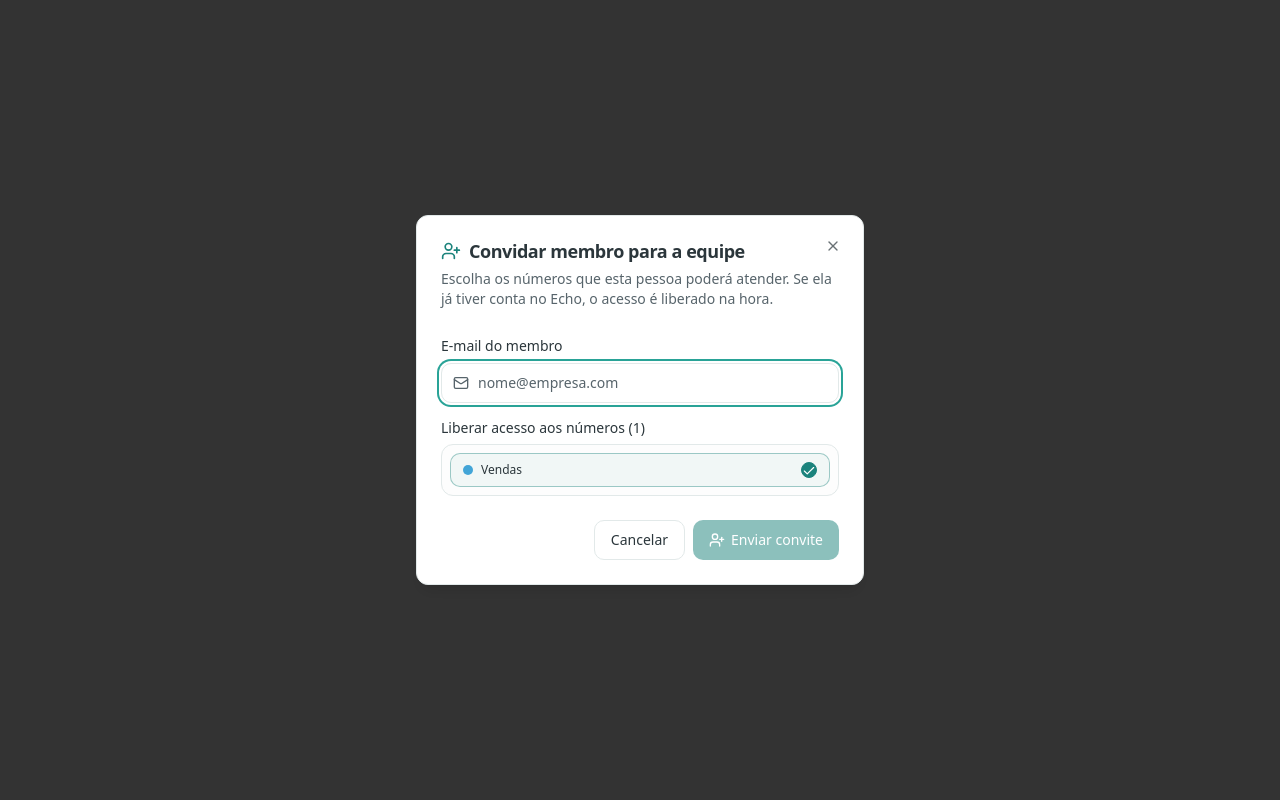
InviteMemberDialog: link do convite › 'Copiar' grava o link na área de transferência no clique e confirma
Type "agente@example.com" into the field labelled "E-mail do membro" at (640, 382), box x1=441 y1=362 x2=839 y2=402
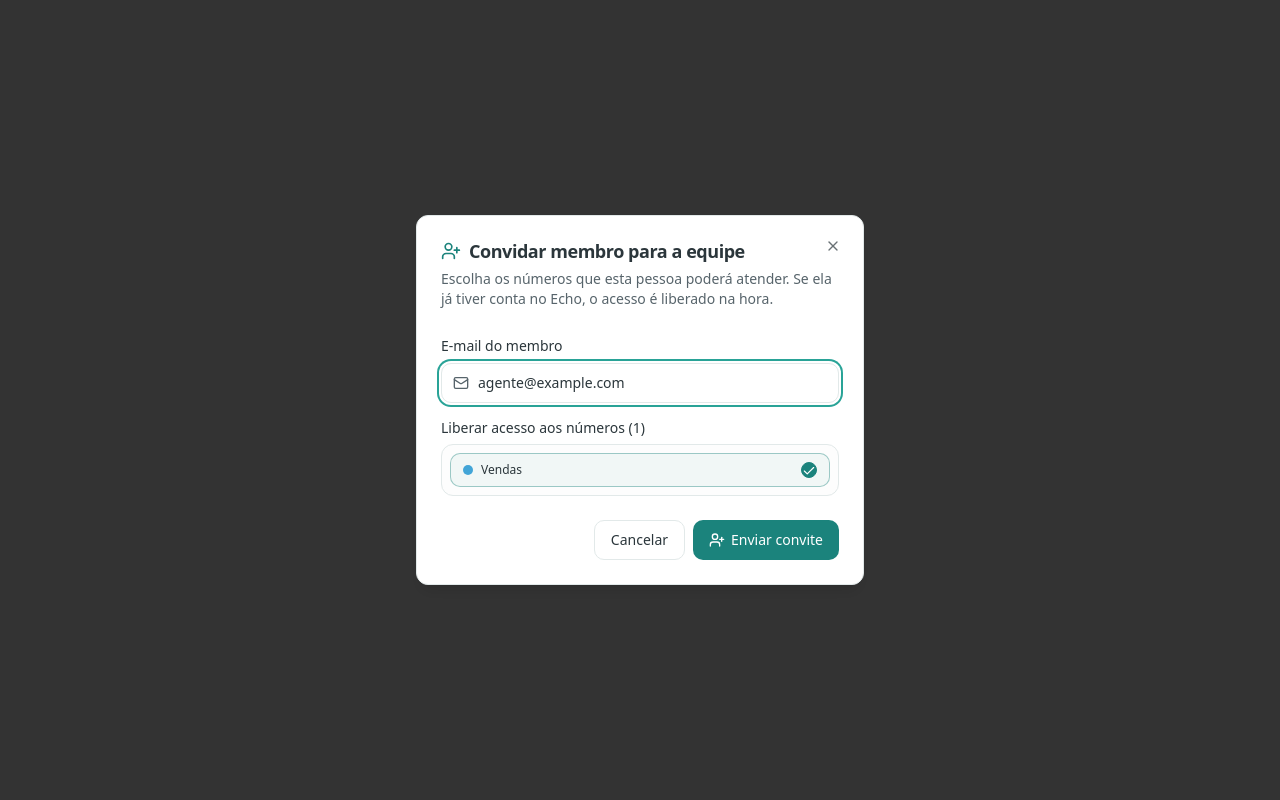
Click the button "Enviar convite" at (766, 540), box x1=693 y1=520 x2=839 y2=560
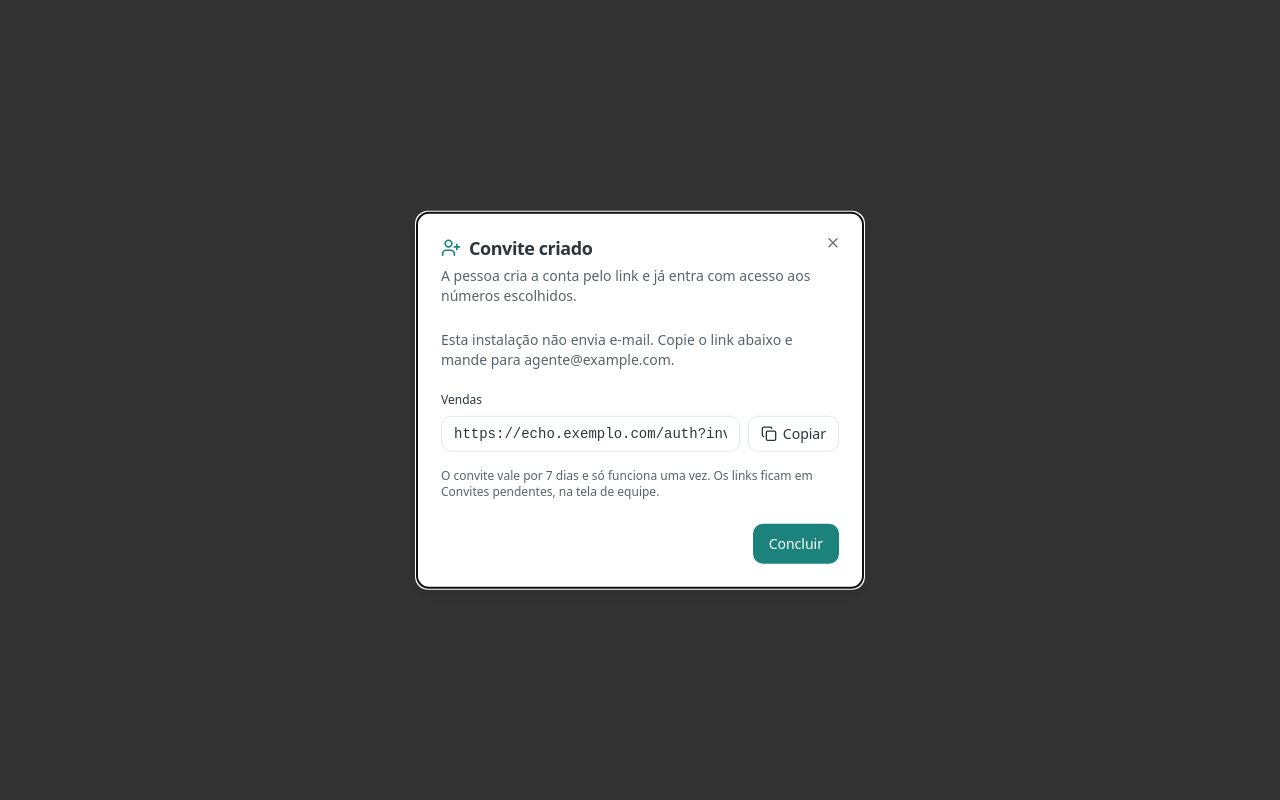
Click the button with aria-label "Copiar link de Vendas" at (793, 433), box x1=748 y1=415 x2=839 y2=451
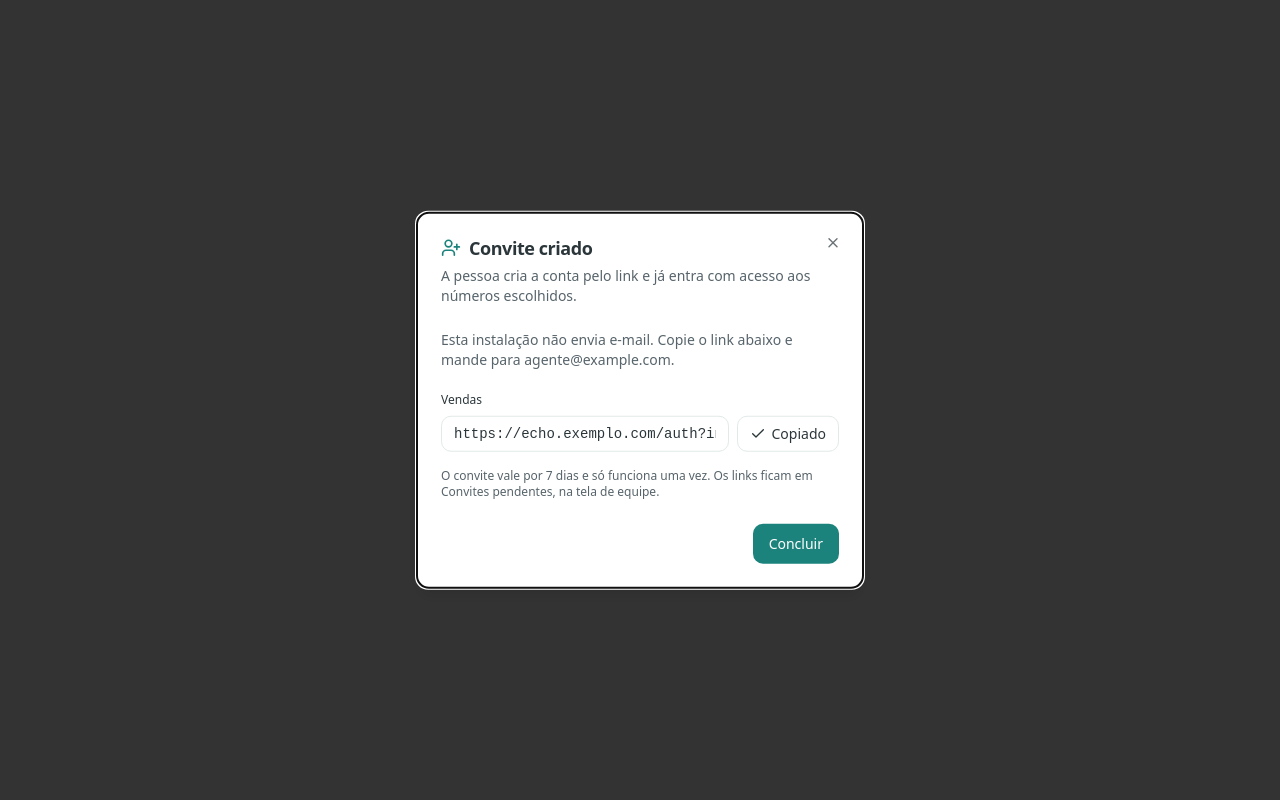
Now the button "Copiado" is shown, box x1=736 y1=415 x2=839 y2=451
